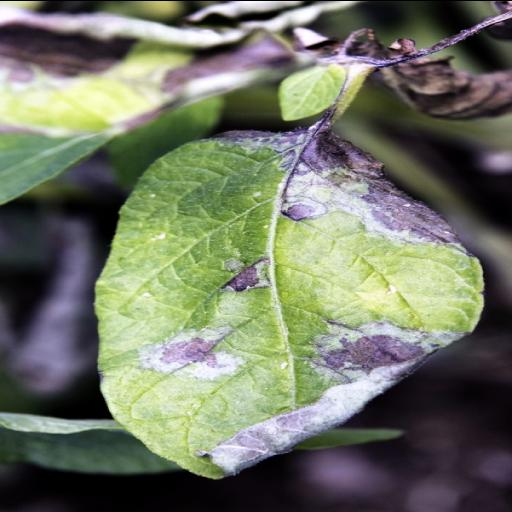Late Blight: (92, 122, 486, 482)
